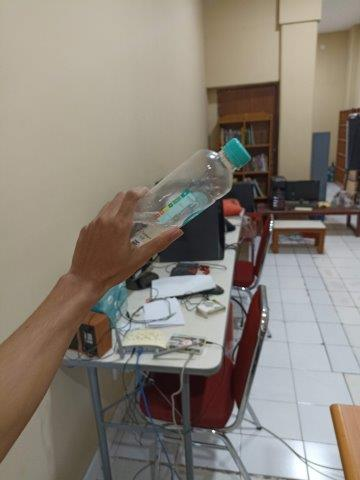botolplastik: (129, 137, 251, 246)
